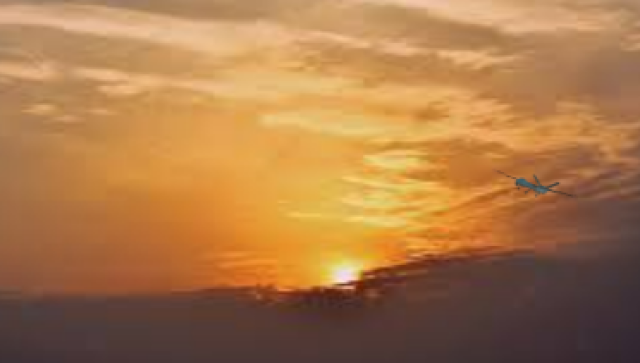military drone: (492, 167, 578, 199)
